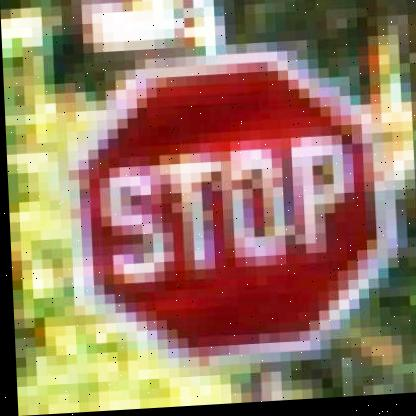Stop Sign: (69, 48, 396, 373)
